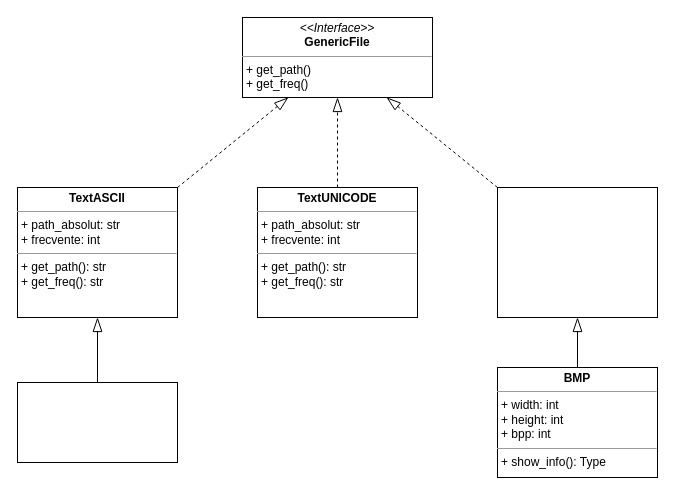
The diagram is 675 pixels wide and 495 high, and some of its shapes have lost their labels. Here are the shapes that lost their labels. From the top down, the box of each, then its label:
(496, 186, 658, 318): Binary + path_absolut: str + frecvente: int + get_path(): str + get_freq(): str
(16, 382, 178, 462): XMLFile + first_tag: str + get_first_tag(): str
